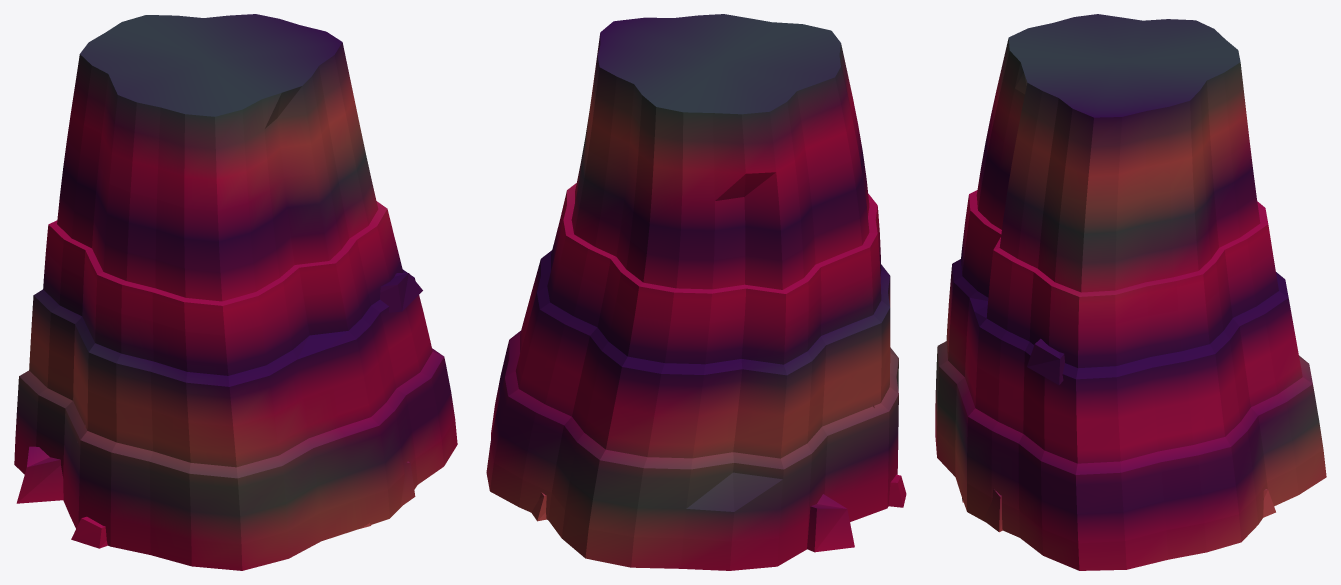
File: SM_CinderCanyon_Rock_B.fbx
3 renders of one model, left to right at view 1: azimuth 30°, elevation 25°; view 2: azimuth 150°, elevation 25°; view 3: azimuth 270°, elevation 25°, orthographic. The views are drawn at different scales.
Visible parts, largest first — view 1: SM_CinderCanyon_Rock_B; view 2: SM_CinderCanyon_Rock_B; view 3: SM_CinderCanyon_Rock_B.
Part boxes in pixels (x1=…): SM_CinderCanyon_Rock_B: x1=14, y1=14, x2=457, y2=570; SM_CinderCanyon_Rock_B: x1=486, y1=14, x2=906, y2=570; SM_CinderCanyon_Rock_B: x1=935, y1=14, x2=1326, y2=570.
Bounding box in the file's own units: 100 × 91 × 104.
